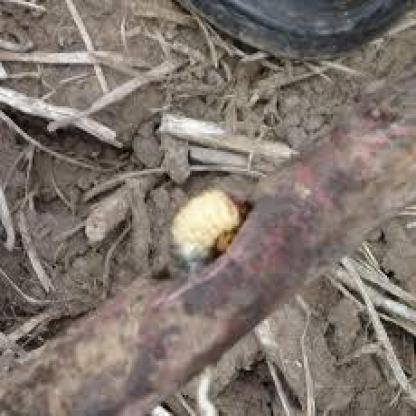root grubs: (172, 188, 242, 259)
